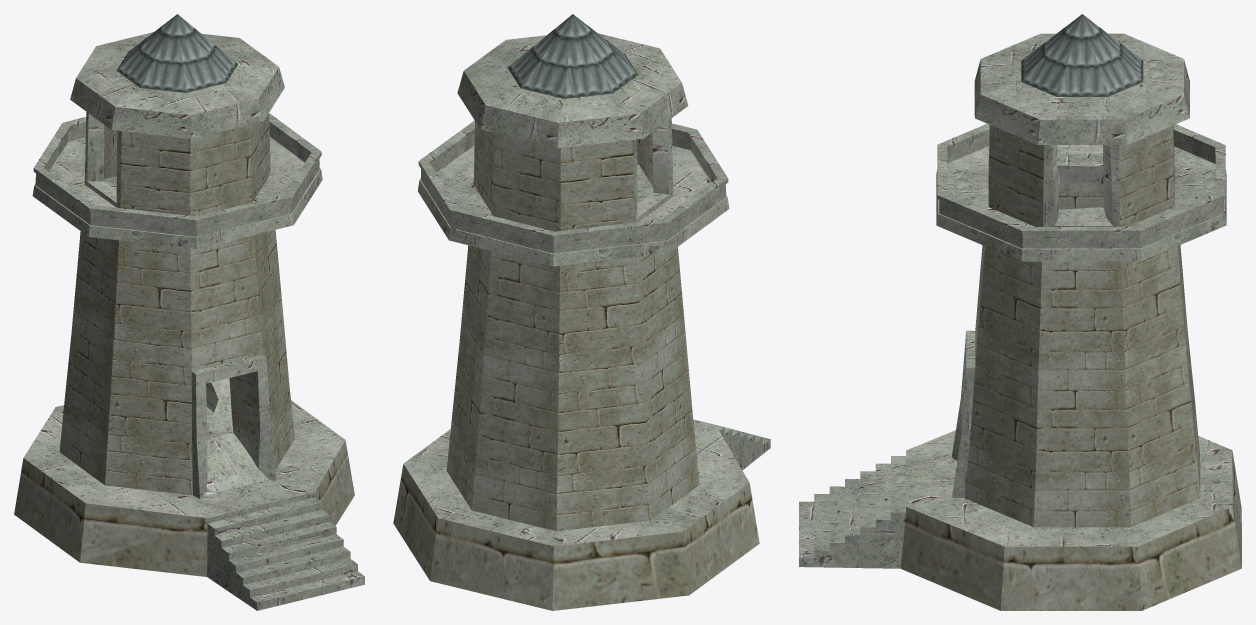
File: towerE.FBX
3 views of the same model, side by side, from view 1: azimuth 30°, elevation 25°; view 2: azimuth 150°, elevation 25°; view 3: azimuth 270°, elevation 25° (orthographic). The views are drawn at different scales.
Visible parts, largest first — view 1: tower_E_walls; view 2: tower_E_walls; view 3: tower_E_walls.
Boxes of the visible parts, x1,y1,x2,y2 form: tower_E_walls: [14, 14, 364, 610]; tower_E_walls: [393, 14, 770, 610]; tower_E_walls: [799, 14, 1241, 610].
Bounding box in the file's own units: 13.69 × 23.18 × 17.76.
